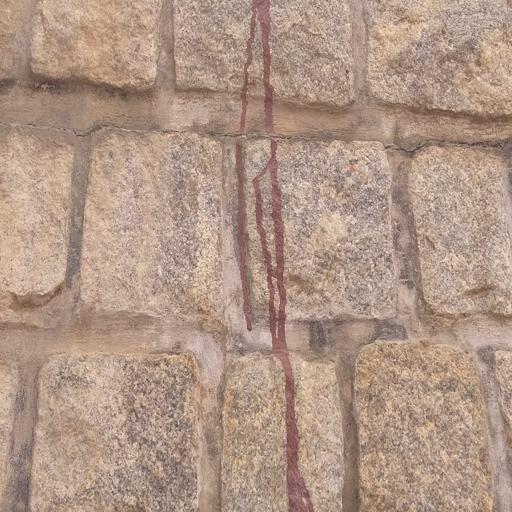stain: (226, 0, 323, 511)
